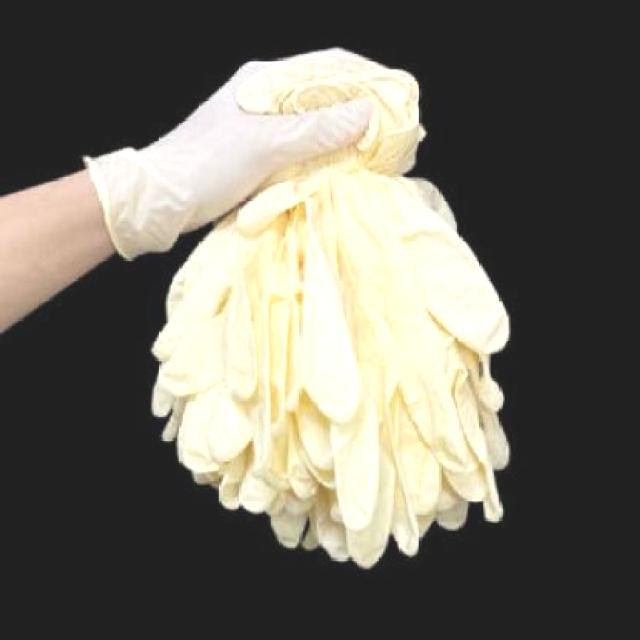glove: (148, 124, 523, 570)
